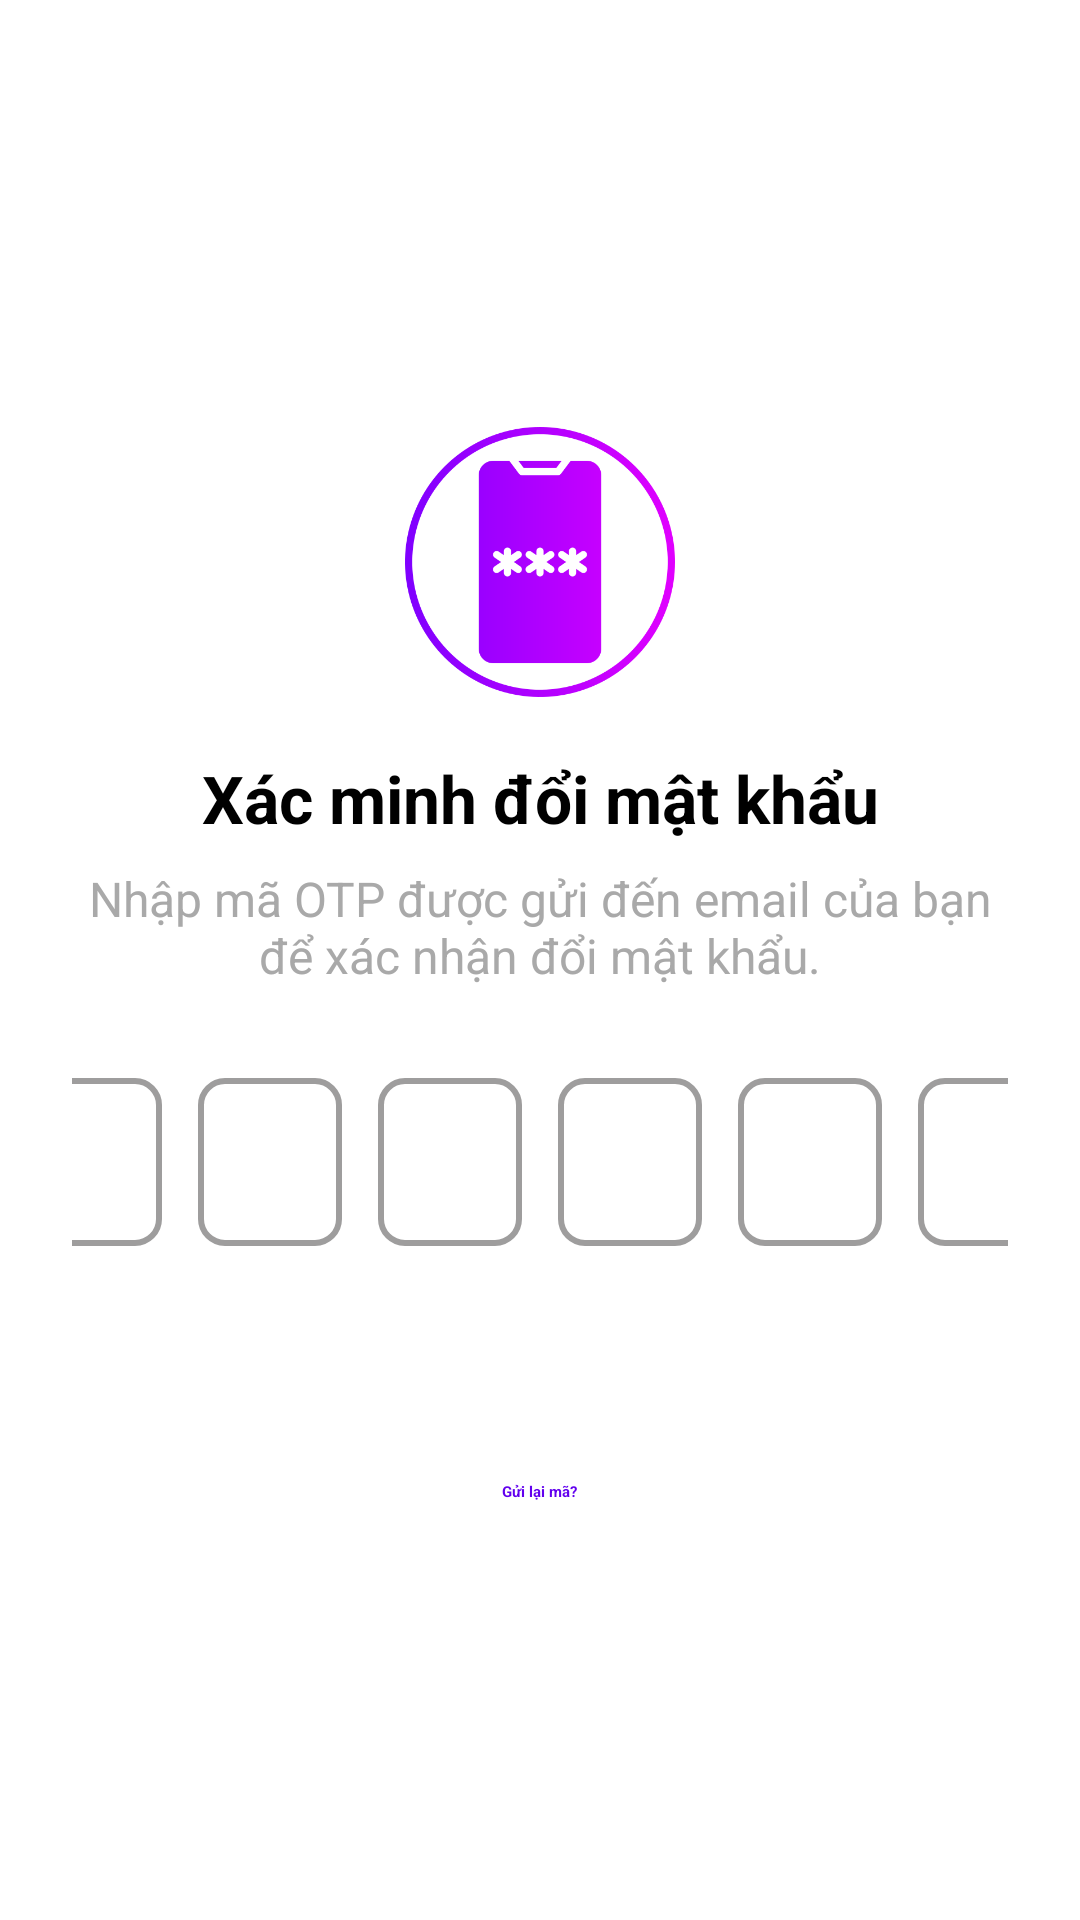

Screen size 1080px×1920px. Icon name, then its box in pixels as (x1, y1, x2, y2):
OTP Illustration: (405, 427, 675, 697)
